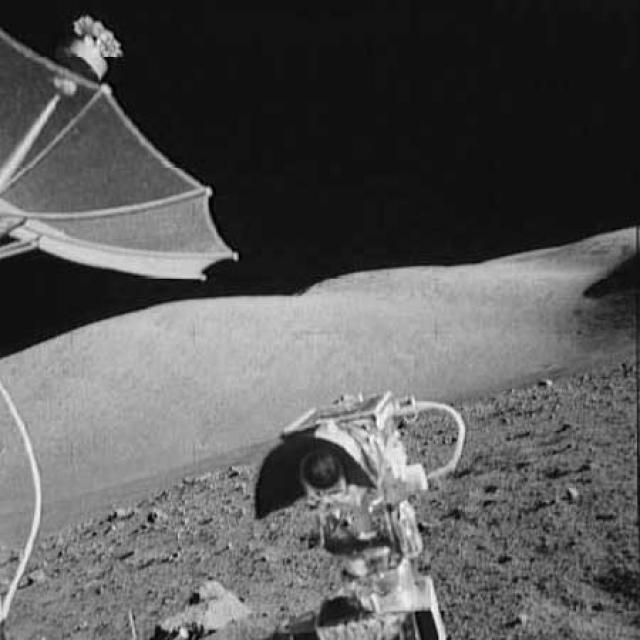artifact: (0, 4, 253, 288), (240, 393, 488, 640), (1, 383, 48, 638)
rock: (146, 568, 242, 638), (143, 504, 169, 529), (105, 502, 132, 524)
